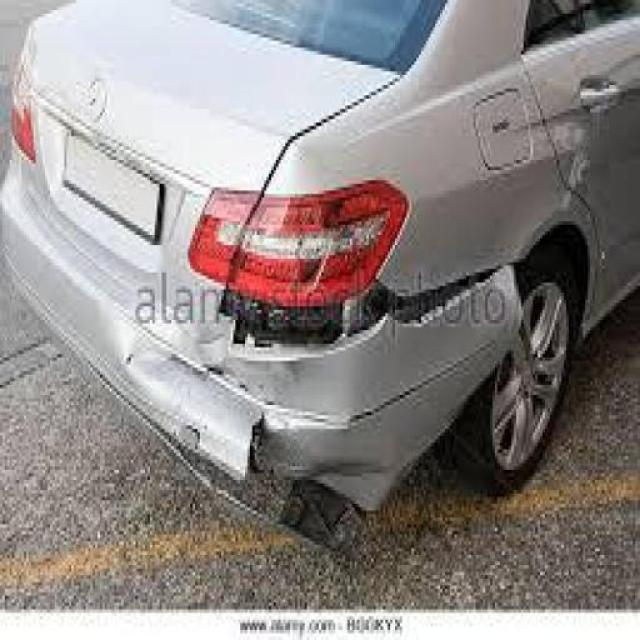crush: (105, 247, 529, 568)
